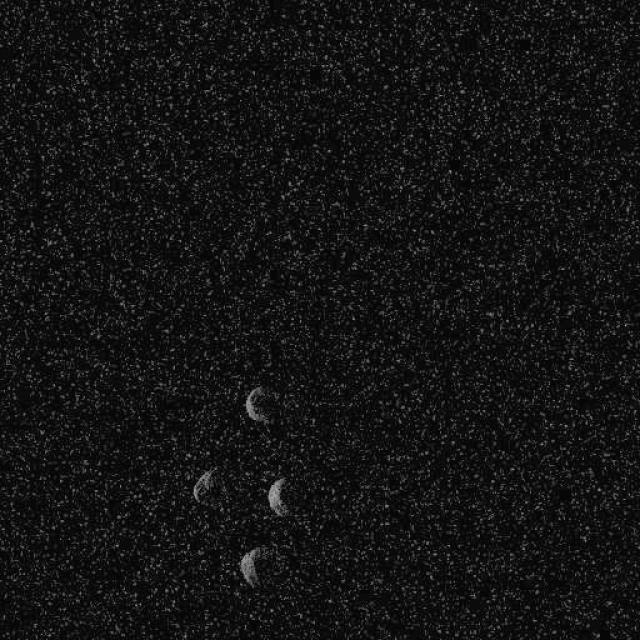D2: (244, 384, 280, 425), (239, 545, 269, 589), (191, 465, 220, 504), (266, 475, 290, 517)
